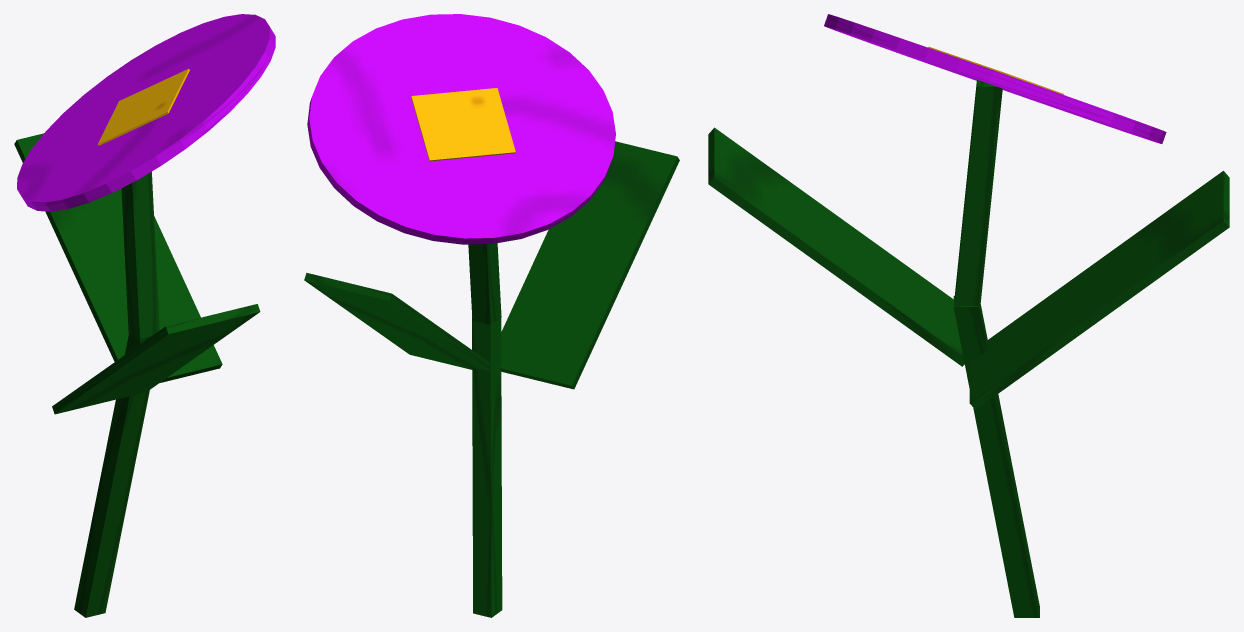
File: ObjectPinkFlower.dae
The picture shows the model from 3 angles, left to right: view 1: azimuth 30°, elevation 25°; view 2: azimuth 150°, elevation 25°; view 3: azimuth 270°, elevation 25°; orthographic projection. The views are drawn at different scales.
Parts seen in each view (by area): view 1: Cylinder, Cube.003, Cube, Cube.002, Cube.001, Cube.004; view 2: Cylinder, Cube.002, Cube, Cube.004, Cube.003, Cube.001; view 3: Cube.003, Cube.002, Cube, Cube.001, Cylinder.
Part boxes in pixels (left/top/right/bottom): Cylinder: left=17, top=14, right=275, bottom=211; Cube.003: left=14, top=133, right=222, bottom=382; Cube: left=74, top=334, right=152, bottom=617; Cube.002: left=52, top=304, right=260, bottom=414; Cube.001: left=121, top=171, right=159, bottom=341; Cube.004: left=97, top=68, right=189, bottom=145; Cylinder: left=307, top=14, right=615, bottom=244; Cube.002: left=500, top=141, right=679, bottom=389; Cube: left=472, top=317, right=502, bottom=617; Cube.004: left=411, top=88, right=515, bottom=161; Cube.003: left=304, top=272, right=489, bottom=371; Cube.001: left=468, top=243, right=501, bottom=324; Cube.003: left=969, top=171, right=1229, bottom=409; Cube.002: left=708, top=127, right=964, bottom=366; Cube: left=953, top=296, right=1039, bottom=617; Cube.001: left=954, top=80, right=1002, bottom=309; Cylinder: left=824, top=14, right=1166, bottom=143.
Size of the model in its own units: 0.9618 by 1.52 by 2.06.
Materials: 1 (1 with a texture image).
